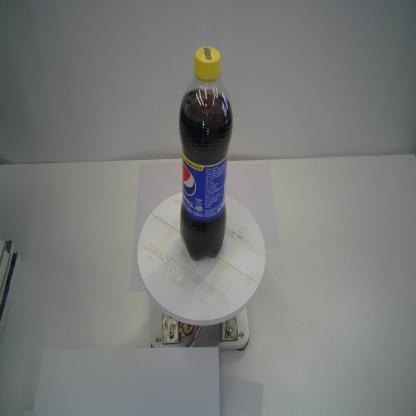Drink: (178, 44, 235, 261)
